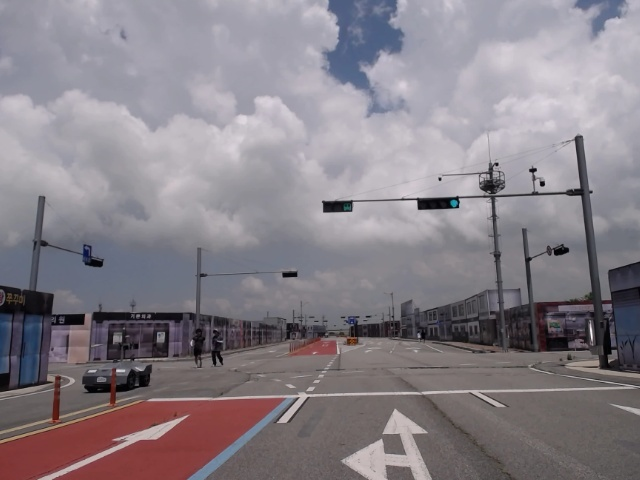straight_green_4: (415, 198, 461, 208)
